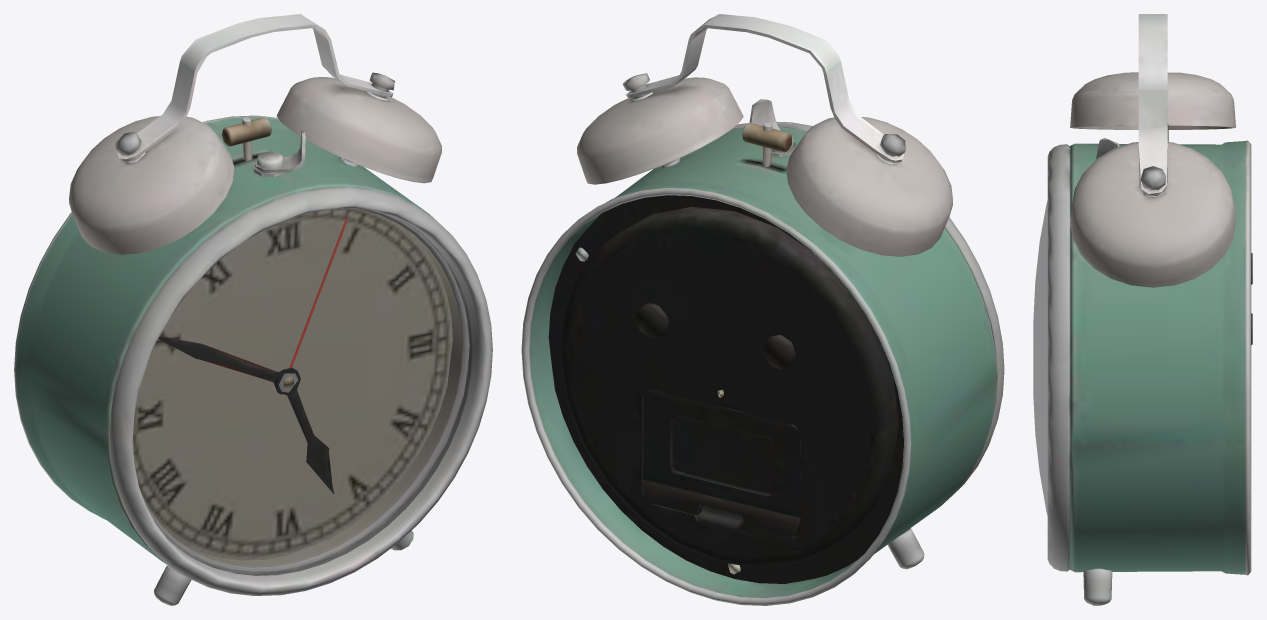
File: alarm_clock_01_2k.glb
3 views of the same model, side by side, from view 1: azimuth 30°, elevation 25°; view 2: azimuth 150°, elevation 25°; view 3: azimuth 270°, elevation 25° (orthographic). The views are drawn at different scales.
Parts seen in each view (by area): view 1: alarm_clock_01, alarm_clock_01_glass; view 2: alarm_clock_01; view 3: alarm_clock_01, alarm_clock_01_glass.
Boxes of the visible parts, x1=… form: alarm_clock_01: x1=14, y1=14, x2=492, y2=605; alarm_clock_01_glass: x1=133, y1=209, x2=472, y2=575; alarm_clock_01: x1=521, y1=14, x2=1004, y2=605; alarm_clock_01: x1=1047, y1=14, x2=1252, y2=605; alarm_clock_01_glass: x1=1033, y1=201, x2=1047, y2=515.
Size of the model in its own units: 0.1316 by 0.1741 by 0.0662.
Materials: 2 (1 with a texture image).
